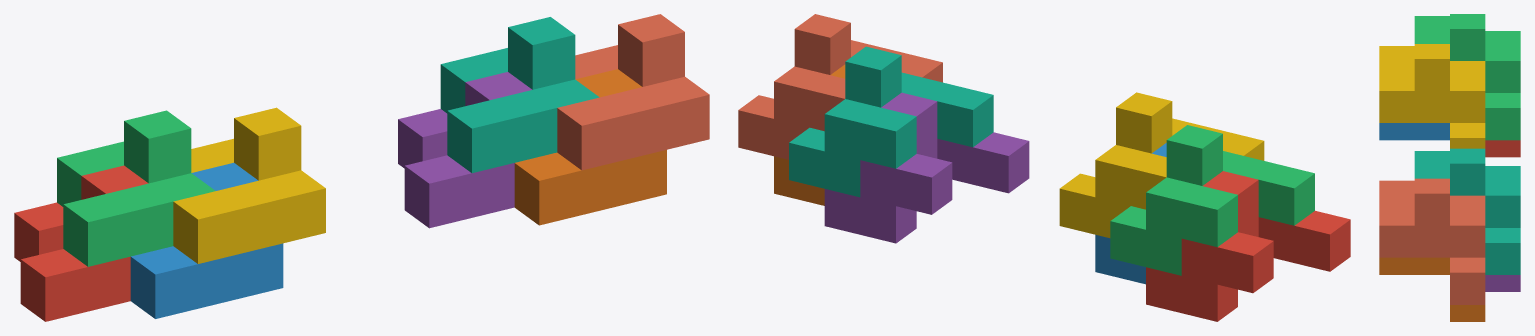
Rendered from tiling.obj.
3 renders of one model, left to right at view 1: azimuth 30°, elevation 25°; view 2: azimuth 150°, elevation 25°; view 3: azimuth 270°, elevation 25°, orthographic. The views are drawn at different scales.
Parts seen in each view (by area): view 1: copy_1_domain_4, copy_1_domain_8, copy_1_domain_7, copy_1_domain_3, copy_1_domain_1, copy_1_domain_5, copy_1_domain_2, copy_1_domain_6; view 2: copy_1_domain_7, copy_1_domain_3, copy_1_domain_5, copy_1_domain_1, copy_1_domain_4, copy_1_domain_8, copy_1_domain_2, copy_1_domain_6; view 3: copy_1_domain_8, copy_1_domain_4, copy_1_domain_3, copy_1_domain_7, copy_1_domain_6, copy_1_domain_2, copy_1_domain_1, copy_1_domain_5.
Part boxes in pixels (x1=…): copy_1_domain_4: x1=173, y1=107, x2=325, y2=263; copy_1_domain_8: x1=557, y1=14, x2=709, y2=170; copy_1_domain_7: x1=440, y1=17, x2=599, y2=173; copy_1_domain_3: x1=57, y1=110, x2=215, y2=266; copy_1_domain_1: x1=14, y1=165, x2=148, y2=321; copy_1_domain_5: x1=398, y1=72, x2=532, y2=228; copy_1_domain_2: x1=130, y1=162, x2=283, y2=318; copy_1_domain_6: x1=514, y1=69, x2=666, y2=225; copy_1_domain_7: x1=789, y1=46, x2=993, y2=197; copy_1_domain_3: x1=1110, y1=125, x2=1314, y2=275; copy_1_domain_5: x1=824, y1=92, x2=1029, y2=243; copy_1_domain_1: x1=1146, y1=171, x2=1350, y2=321; copy_1_domain_4: x1=1059, y1=92, x2=1264, y2=237; copy_1_domain_8: x1=738, y1=14, x2=942, y2=159; copy_1_domain_2: x1=1095, y1=143, x2=1166, y2=284; copy_1_domain_6: x1=774, y1=64, x2=845, y2=205; copy_1_domain_8: x1=1379, y1=178, x2=1485, y2=304; copy_1_domain_4: x1=1379, y1=44, x2=1485, y2=148; copy_1_domain_3: x1=1414, y1=14, x2=1520, y2=140; copy_1_domain_7: x1=1414, y1=148, x2=1520, y2=274; copy_1_domain_6: x1=1379, y1=257, x2=1485, y2=321; copy_1_domain_2: x1=1379, y1=123, x2=1449, y2=140; copy_1_domain_1: x1=1485, y1=140, x2=1520, y2=157; copy_1_domain_5: x1=1485, y1=275, x2=1520, y2=291.
Bounding box in the file's own units: 16 × 4 × 4.
